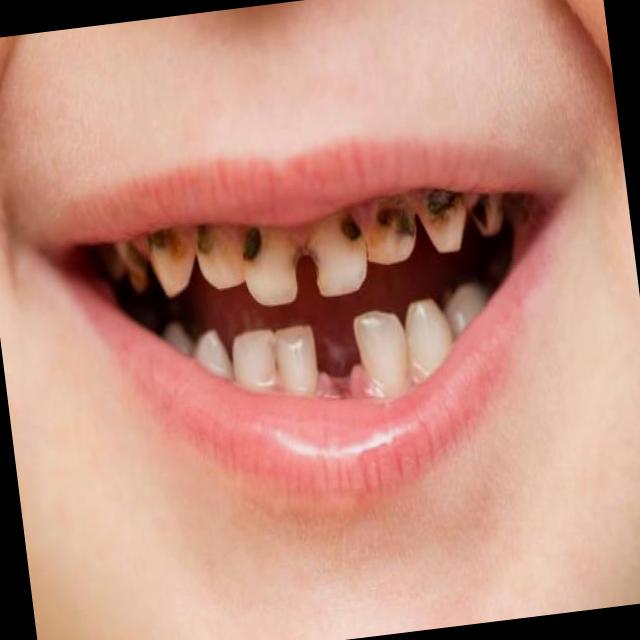caries: (302, 210, 373, 300), (238, 221, 302, 309), (359, 192, 419, 271), (414, 184, 473, 256), (147, 224, 200, 300), (193, 224, 248, 292), (114, 234, 156, 296), (471, 190, 507, 234)
